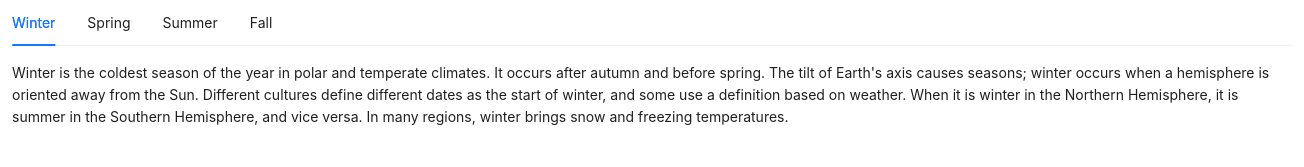
Test: component tests › problem 3 › should have correct content after clicking each tab
Step 1. Click the element showing "Fall" → (262, 23), box [250,14,273,31]
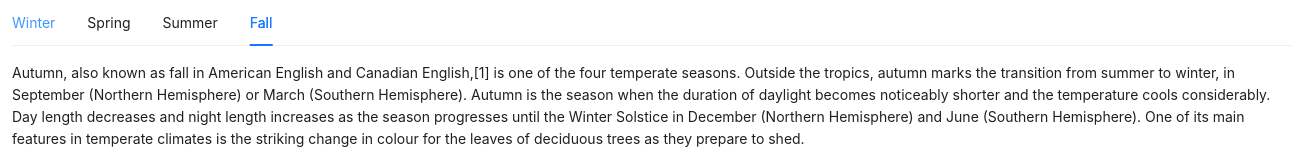
Step 2. Click the element showing "Spring" → (109, 23), box [87,14,130,31]
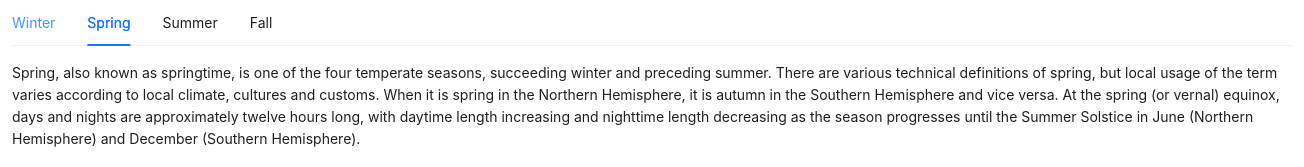
Expected: the number of panels is 1, [12,62,1292,150]
Step 3. Click the element showing "Summer" → (191, 23), box [163,14,218,31]
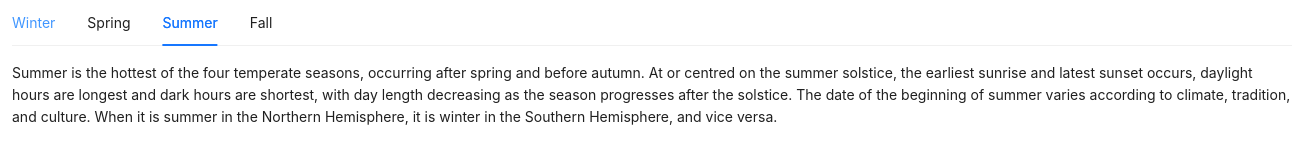
Expected: the number of panels is 1, [12,62,1292,128]
